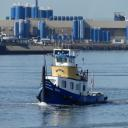tugboat: (36, 45, 109, 108)
